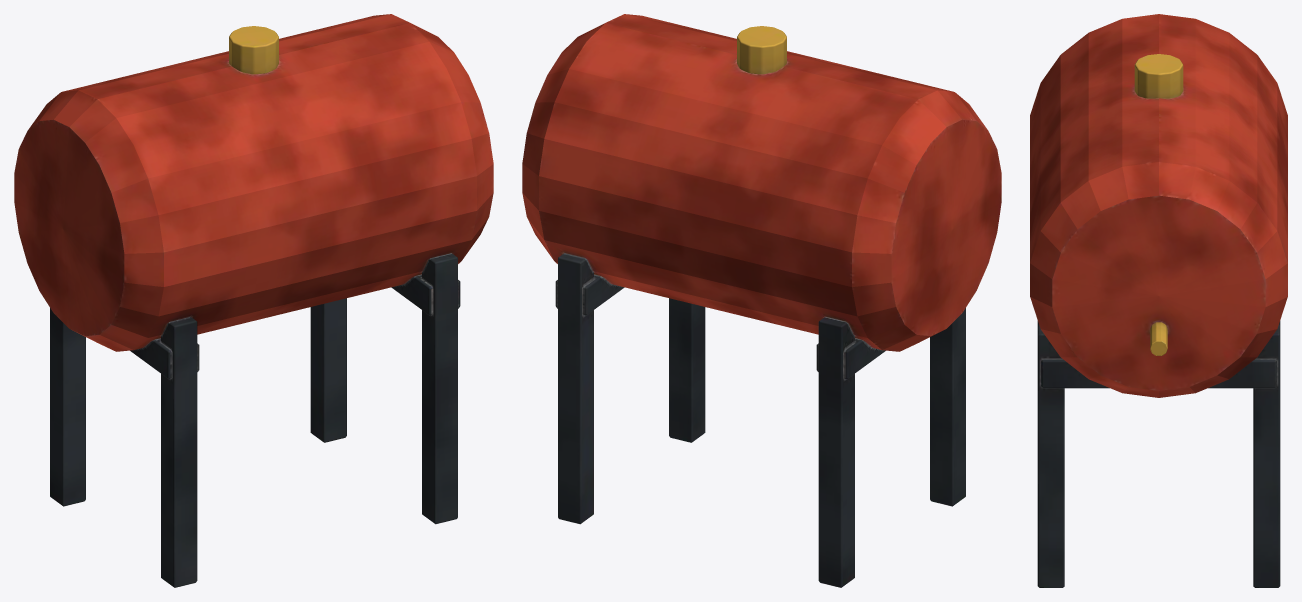
Rendered from oil_tank_stand.glb.
The picture shows the model from 3 angles, left to right: view 1: azimuth 30°, elevation 25°; view 2: azimuth 150°, elevation 25°; view 3: azimuth 270°, elevation 25°; orthographic projection. The views are drawn at different scales.
Visible parts, largest first — view 1: OilTankStand; view 2: OilTankStand; view 3: OilTankStand.
Boxes of the visible parts, box(x1,y1,x2,y2) form: OilTankStand: box(14, 14, 493, 587); OilTankStand: box(522, 14, 1001, 587); OilTankStand: box(1030, 14, 1287, 587).
Bounding box in the file's own units: 2.09 × 2.25 × 1.15.
Materials: 1 (1 with a texture image).
